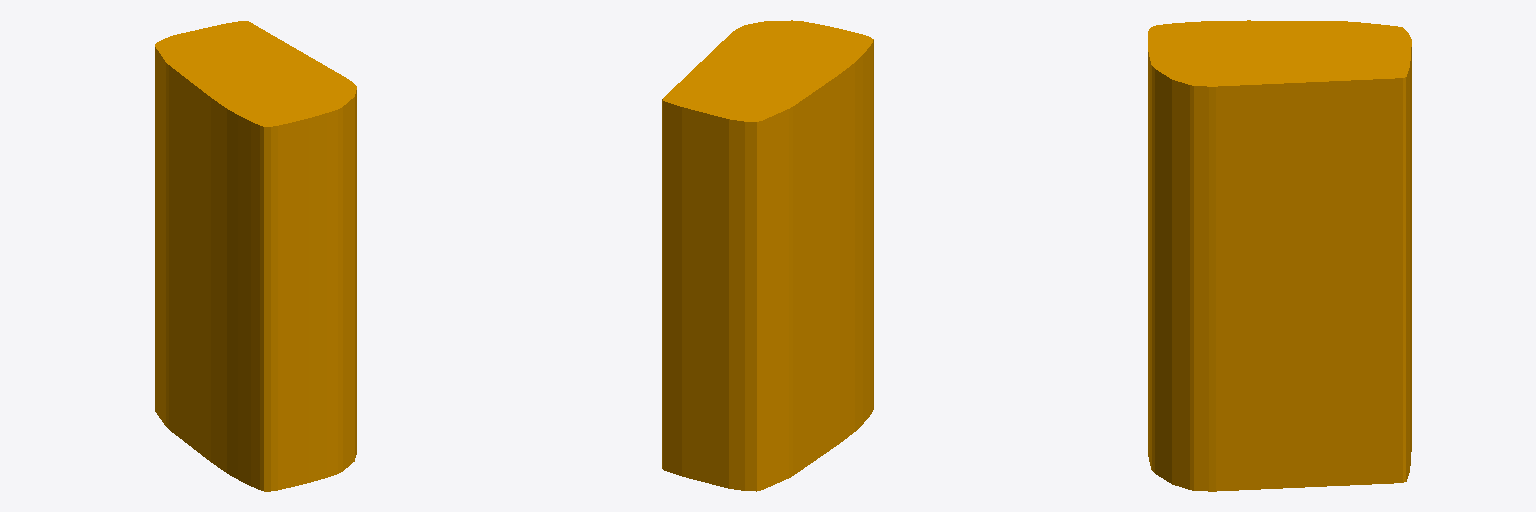
URDF robot description (drink_ad_optimized):
<?xml version="1.0"?>
<robot name="drink_ad_optimized">
  <link name="base_link">
    <inertial>
      <origin xyz="0 0 0" rpy="0 0 0"/>
      <mass value="0.550000"/>
      <inertia ixx="0.00247342" ixy="0" ixz="0" iyy="0.00205792" iyz="0" izz="0.00086467"/>
    </inertial>
    <visual>
      <origin xyz="0 0 0" rpy="0 0 0"/>
      <geometry><mesh filename="drink_ad_visual.obj" scale="1 1 1"/></geometry>
    </visual>
    <collision>
      <origin xyz="0 0 0" rpy="0 0 0"/>
      <geometry><mesh filename="drink_ad_collision.obj" scale="1 1 1"/></geometry>
    </collision>
    <contact>
      <lateral_friction value="1.0"/>
      <rolling_friction value="0.01"/>
      <restitution value="0.1"/>
    </contact>
  </link>
</robot>

--- Facts derived from the render (not from the file) ---
3 views of the same robot in one strip: view 1: azimuth 30°, elevation 25°; view 2: azimuth 150°, elevation 25°; view 3: azimuth 270°, elevation 25° (orthographic).
Robot: drink_ad_optimized — 1 links, 0 joints (none); root link base_link; default pose: every joint at zero.
Links seen in each view (by area): view 1: base_link; view 2: base_link; view 3: base_link.
Link boxes in pixels (x1,y1,x2,y2): base_link: (155, 21, 356, 491); base_link: (662, 20, 873, 491); base_link: (1148, 20, 1411, 491).
Bounding box of the posed robot: 0.07 × 0.1182 × 0.2 m (x, y, z).
1 mesh visuals loaded from 1 distinct referenced files (1 OBJ).
